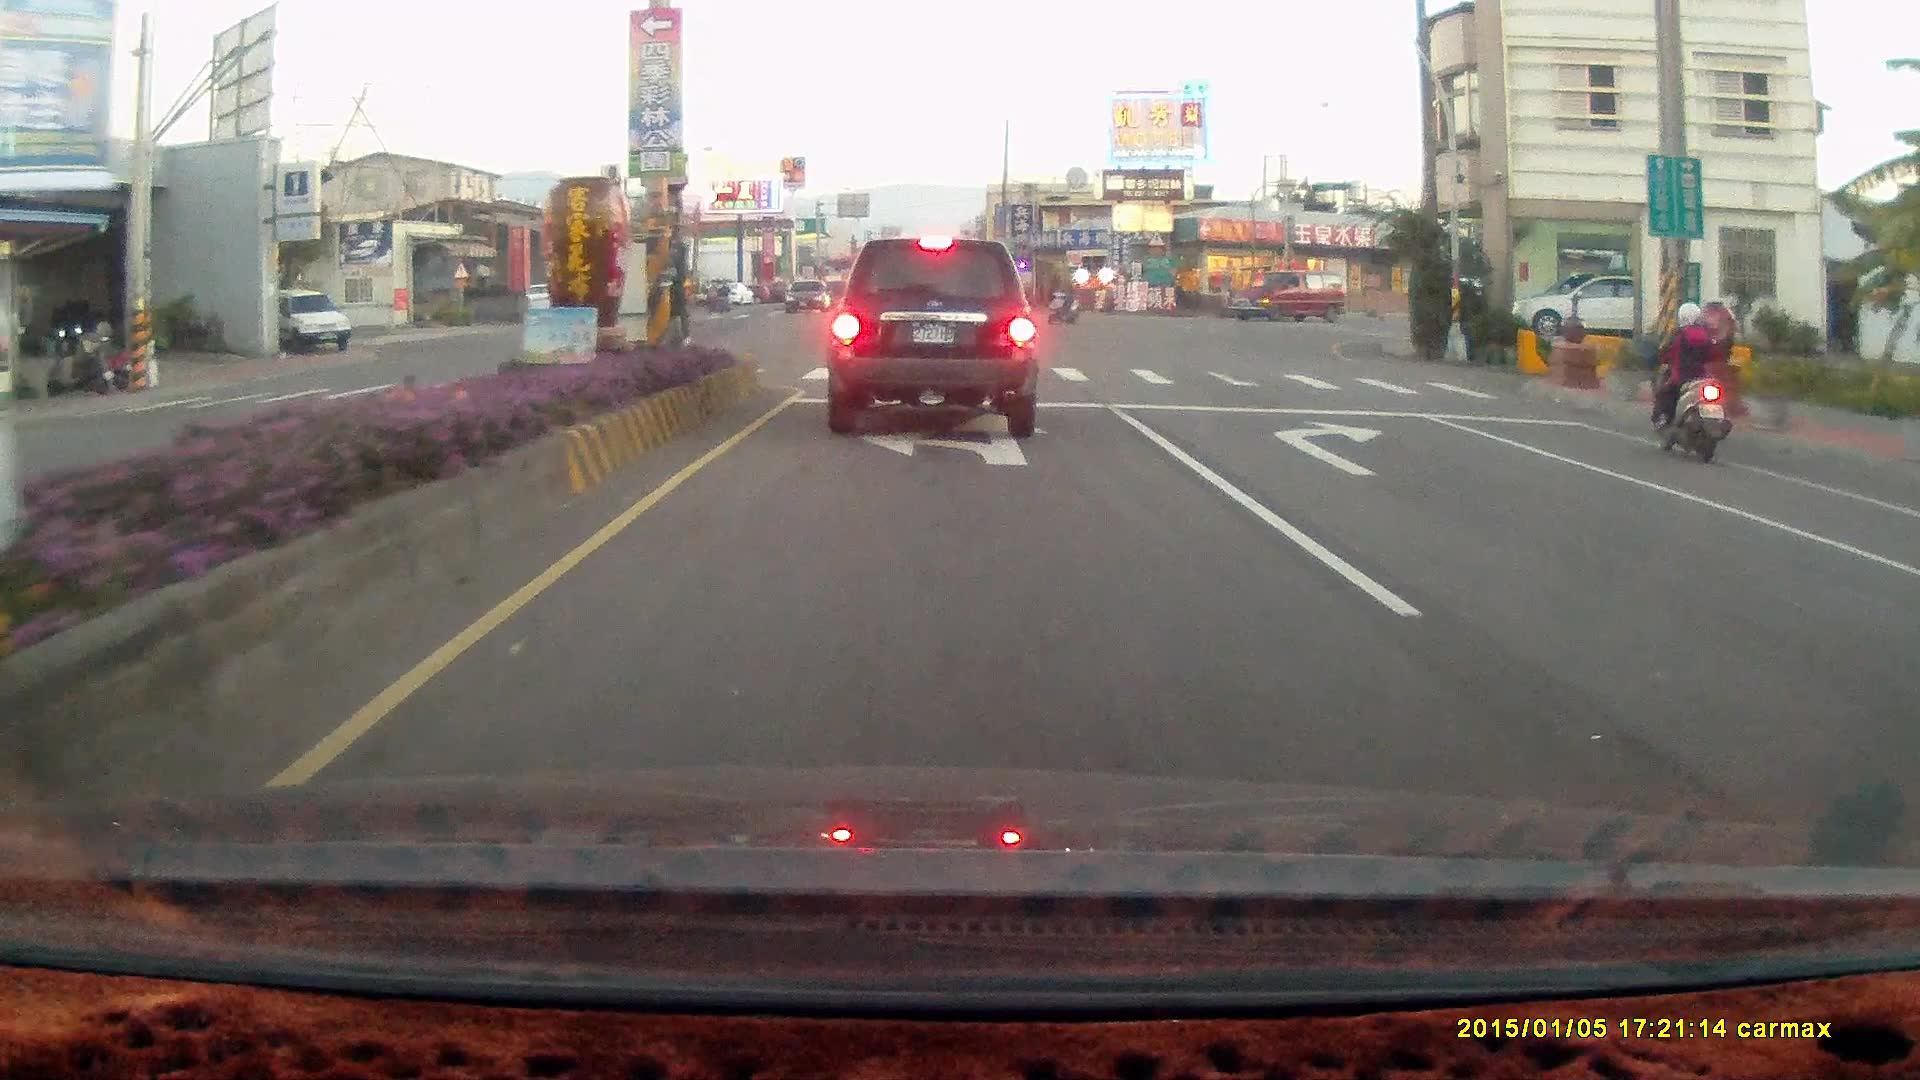rider: (1649, 298, 1729, 463), (1043, 272, 1080, 327)
vehicle: (825, 236, 1041, 437), (1508, 269, 1679, 339), (1896, 493, 1920, 836), (1527, 274, 1651, 337), (258, 285, 354, 352), (1232, 268, 1351, 320), (1228, 269, 1345, 321), (1883, 528, 1920, 690)
